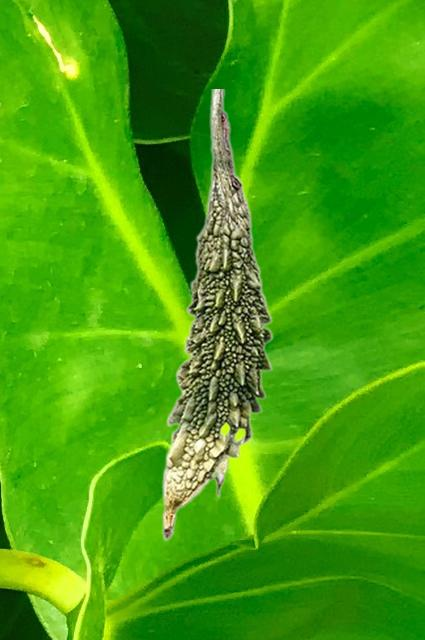ampalaya: (161, 89, 273, 541)
